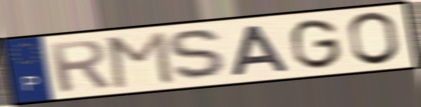A: (229, 23, 294, 79)
G: (289, 17, 344, 71)
M: (105, 29, 176, 90)
O: (346, 11, 403, 68)
R: (45, 37, 113, 94)
S: (165, 28, 234, 83)
